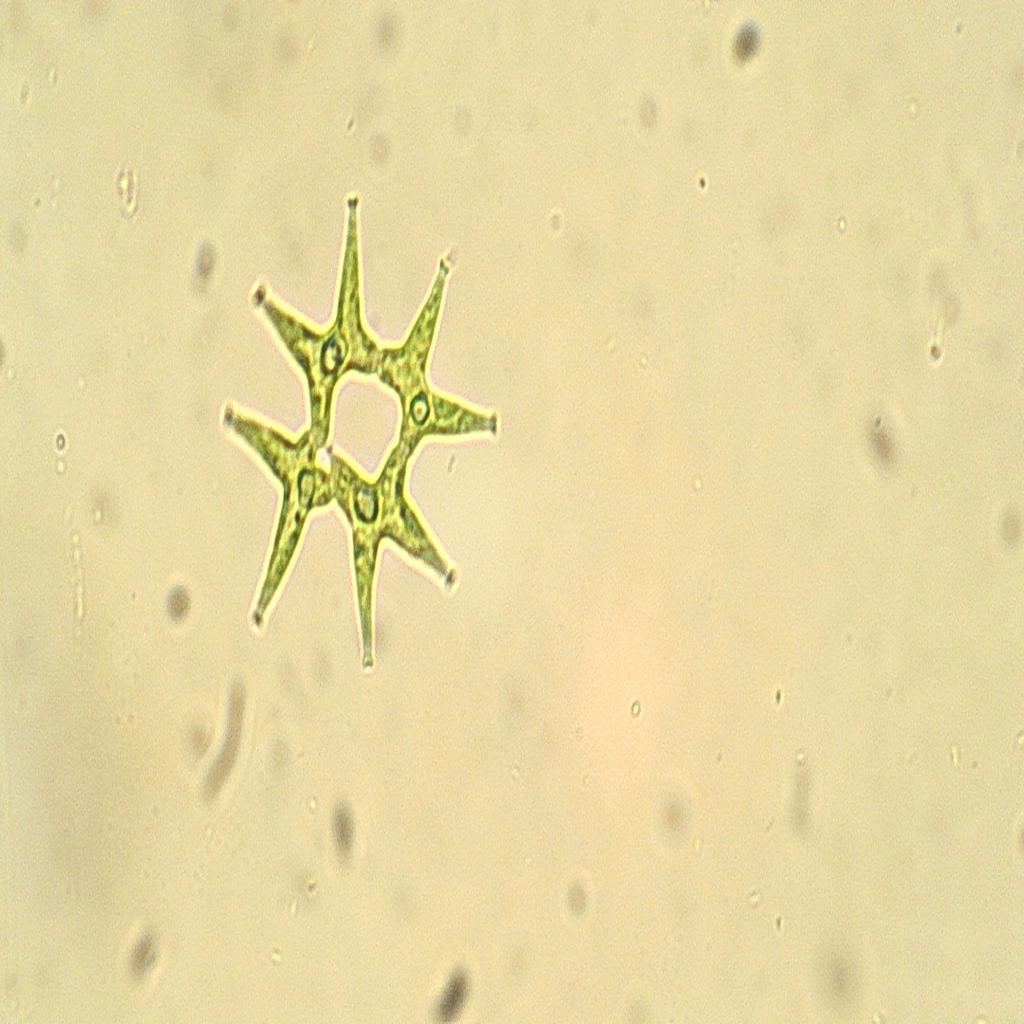Pediastrum_75FO: (216, 179, 511, 682)
